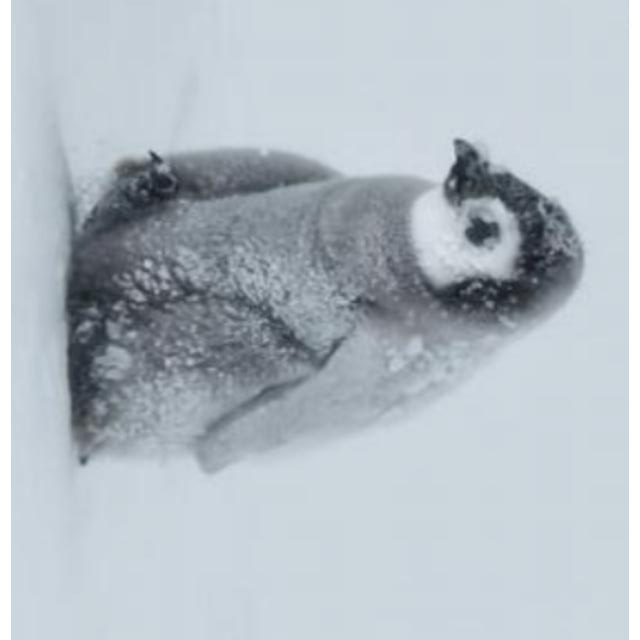penguin: (65, 134, 587, 474)
